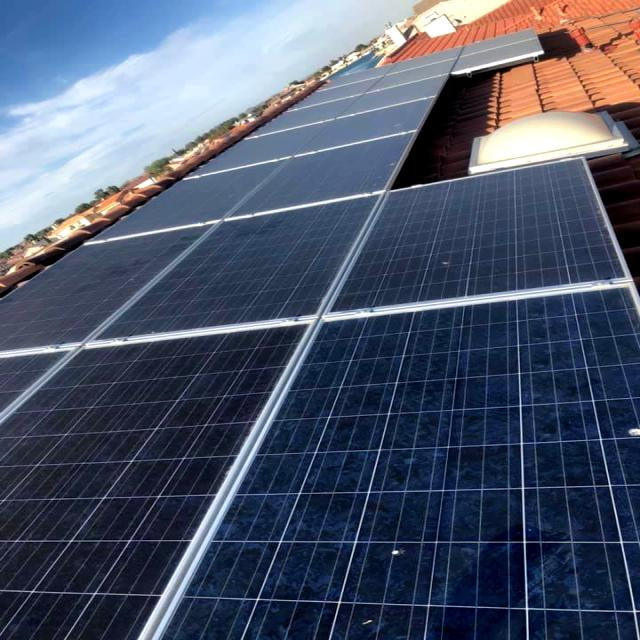crack: (0, 332, 275, 640), (39, 210, 492, 353), (336, 175, 640, 338), (395, 438, 618, 582), (315, 372, 524, 509), (242, 116, 429, 212)
